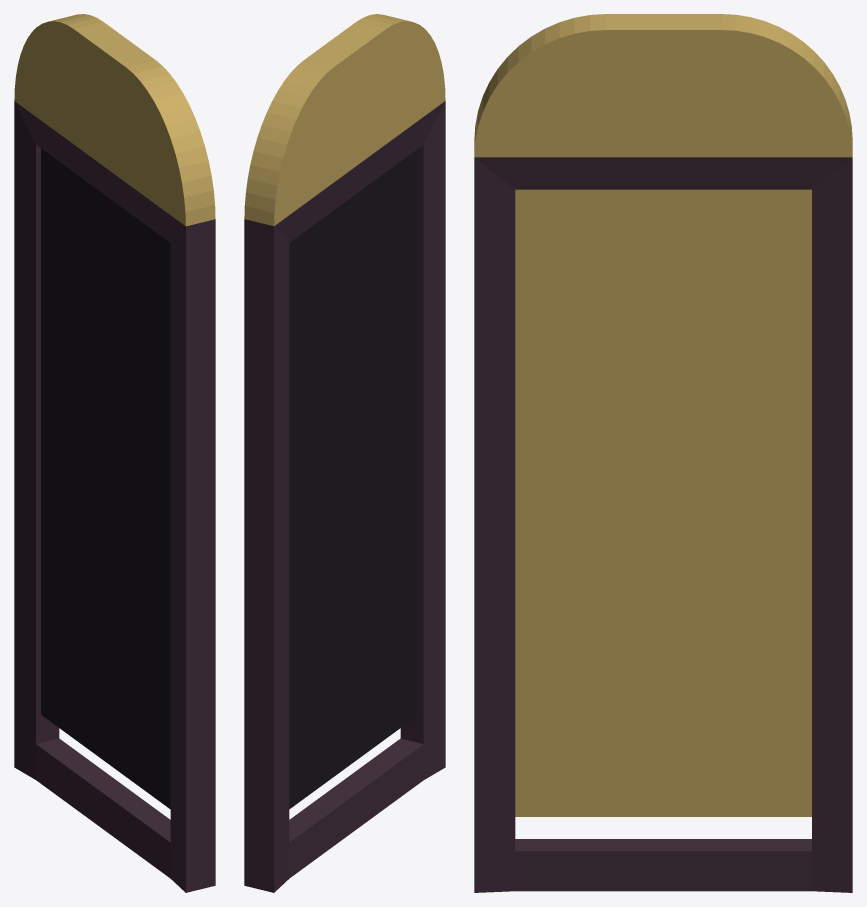
File: door - closed.fbx
3 views of the same model, side by side, from view 1: azimuth 30°, elevation 25°; view 2: azimuth 150°, elevation 25°; view 3: azimuth 270°, elevation 25° (orthographic). The views are drawn at different scales.
Parts seen in each view (by area): view 1: Plane.003, Cube; view 2: Plane.003, Cube; view 3: Cube, Plane.003.
Part boxes in pixels (x1,y1,x2,y2): Plane.003: (14, 14, 215, 892); Cube: (41, 148, 170, 809); Plane.003: (244, 14, 445, 892); Cube: (289, 148, 418, 809); Cube: (515, 189, 811, 816); Plane.003: (474, 14, 852, 892).
Size of the model in its own units: 10 by 252 by 100.
